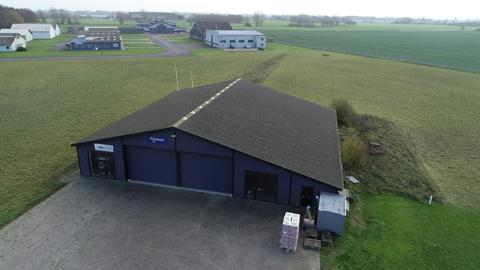RockwoolPallet: (280, 212, 301, 251)
